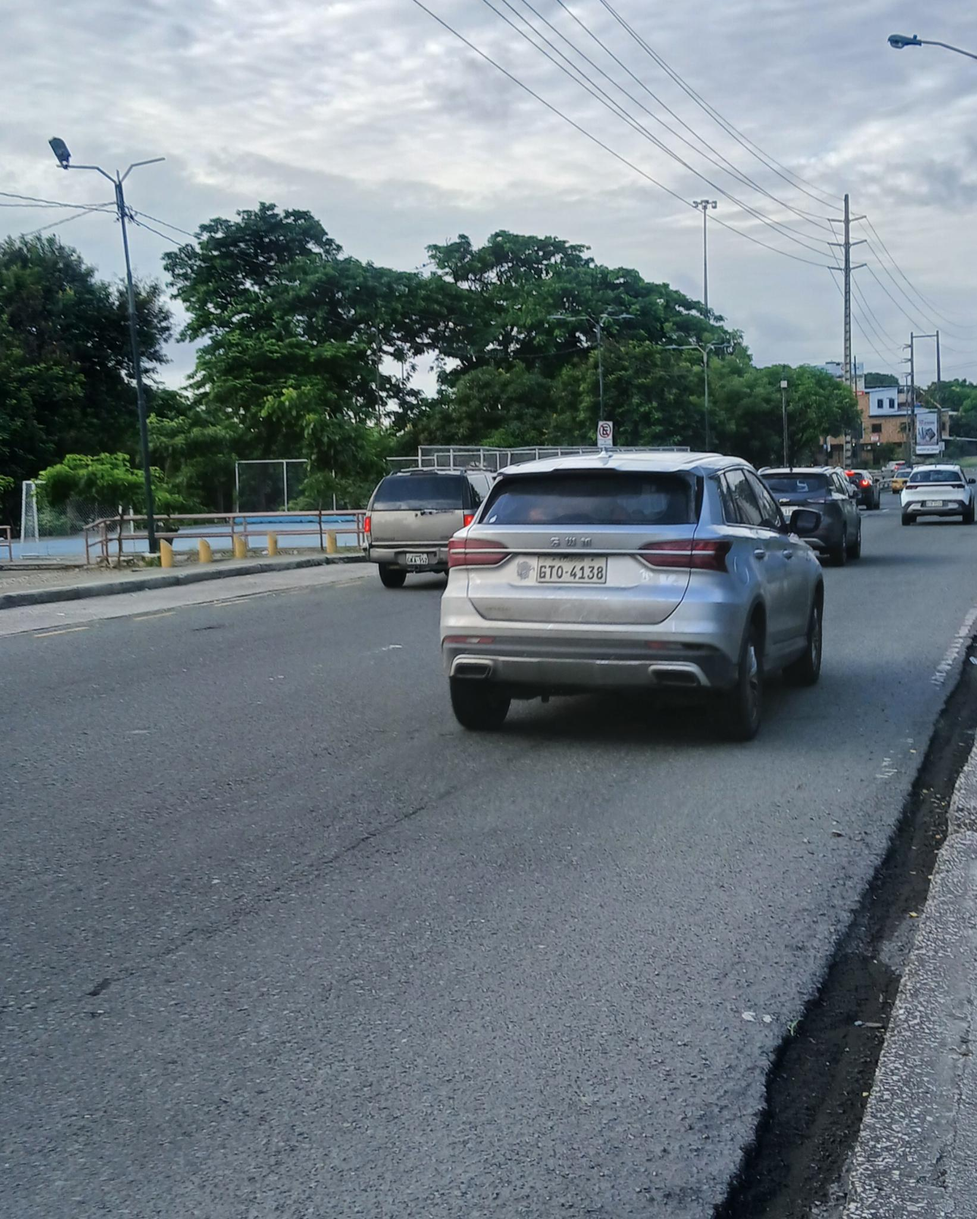license_plate: (533, 558, 606, 584), (405, 552, 430, 564), (779, 507, 792, 517), (923, 500, 944, 506)
